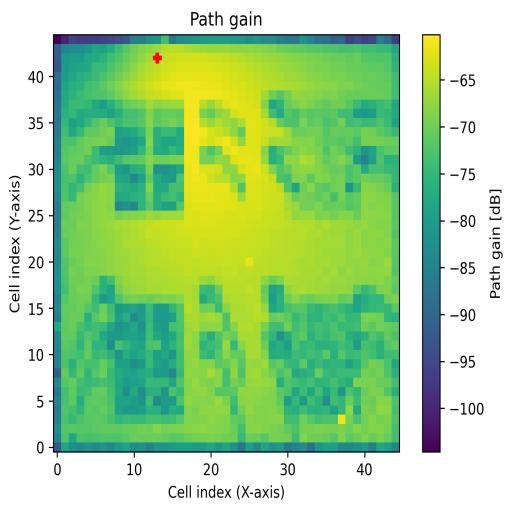Concrete: (291, 100, 362, 220)
Glass: (114, 100, 184, 210)
Metal: (284, 295, 362, 423)
Wood: (107, 293, 184, 423)
